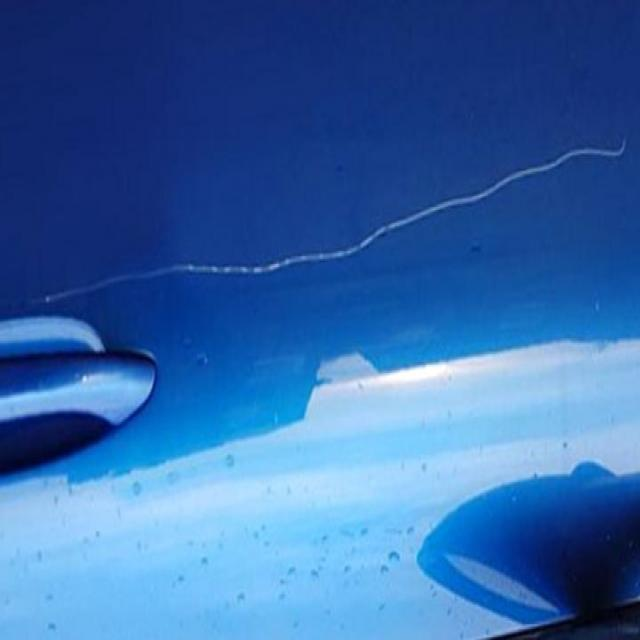scratch: (32, 114, 635, 324)
